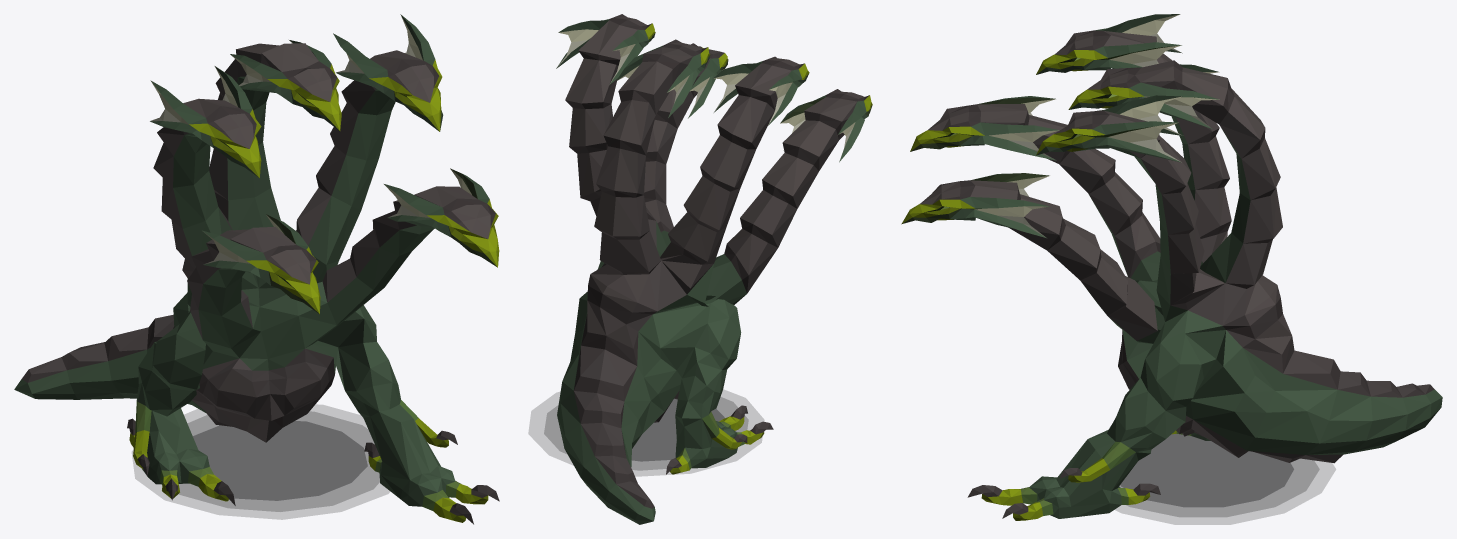
File: alchemical-hydra.gltf
The picture shows the model from 3 angles, left to right: view 1: azimuth 30°, elevation 25°; view 2: azimuth 150°, elevation 25°; view 3: azimuth 270°, elevation 25°; orthographic projection. The views are drawn at different scales.
Bounding box in the file's own units: 517 × 781 × 950.
2 materials, 2 textured.
